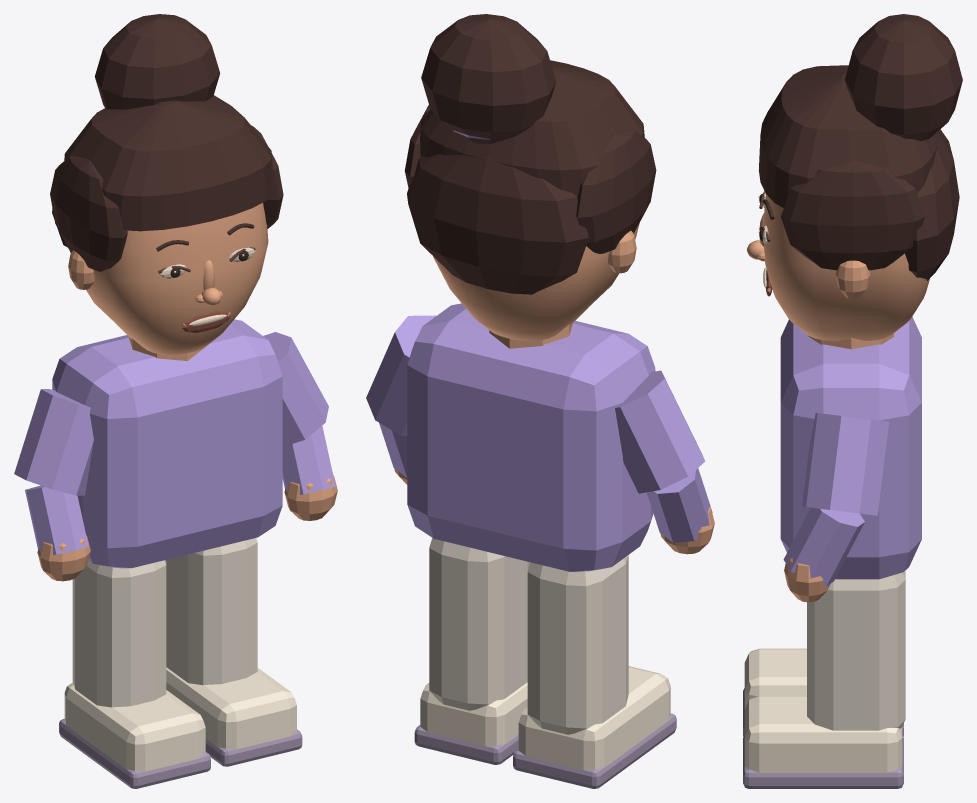
The model's file is companion-avatar-9f93f10e92.glb.
3 views of the same model, side by side, from view 1: azimuth 30°, elevation 25°; view 2: azimuth 150°, elevation 25°; view 3: azimuth 270°, elevation 25° (orthographic). The views are drawn at different scales.
Visible parts, largest first — view 1: HeadMesh.001, BodyMesh.001, LegLMesh.001, LegRMesh.001, ArmLMesh.001, ArmRMesh.001; view 2: HeadMesh.001, BodyMesh.001, LegLMesh.001, LegRMesh.001, ArmLMesh.001, ArmRMesh.001; view 3: HeadMesh.001, LegRMesh.001, BodyMesh.001, ArmRMesh.001, LegLMesh.001.
Part boxes in pixels (bbox=[...]): HeadMesh.001: bbox=[50, 14, 283, 354]; BodyMesh.001: bbox=[52, 319, 282, 568]; LegLMesh.001: bbox=[59, 560, 210, 788]; LegRMesh.001: bbox=[165, 538, 302, 766]; ArmLMesh.001: bbox=[14, 389, 93, 581]; ArmRMesh.001: bbox=[263, 332, 337, 520]; HeadMesh.001: bbox=[404, 14, 656, 340]; BodyMesh.001: bbox=[407, 303, 655, 571]; LegLMesh.001: bbox=[513, 555, 676, 788]; LegRMesh.001: bbox=[414, 538, 530, 764]; ArmLMesh.001: bbox=[615, 370, 714, 554]; ArmRMesh.001: bbox=[366, 315, 435, 484]; HeadMesh.001: bbox=[747, 14, 962, 340]; LegRMesh.001: bbox=[743, 570, 905, 788]; BodyMesh.001: bbox=[780, 316, 921, 579]; ArmRMesh.001: bbox=[783, 412, 888, 602]; LegLMesh.001: bbox=[743, 648, 903, 736].
Bounding box in the file's own units: 1.13 × 2.47 × 0.67.
